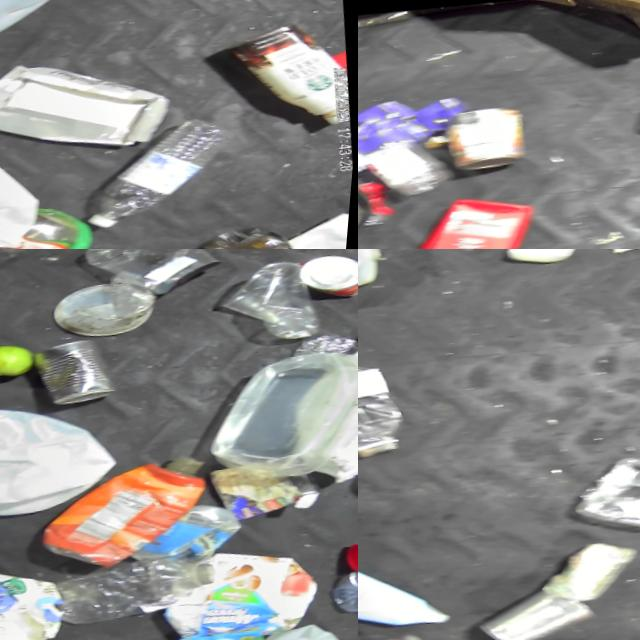can: (480, 566, 611, 640), (31, 326, 125, 412), (541, 531, 640, 604), (449, 97, 539, 172), (284, 249, 358, 314)
milk_jug: (0, 379, 135, 528), (125, 605, 358, 640), (497, 249, 599, 267)
non_white_jug: (30, 441, 228, 581), (400, 184, 548, 249)
plastic_bottle: (77, 104, 254, 233), (46, 546, 228, 633), (358, 355, 417, 466)
